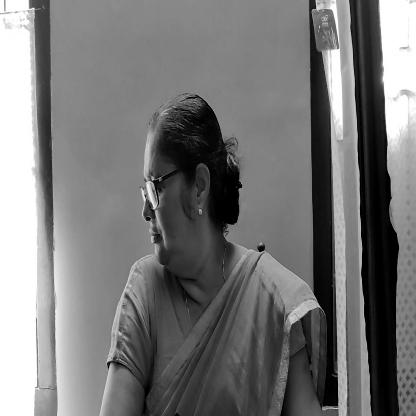Distracted: (138, 92, 241, 292)
